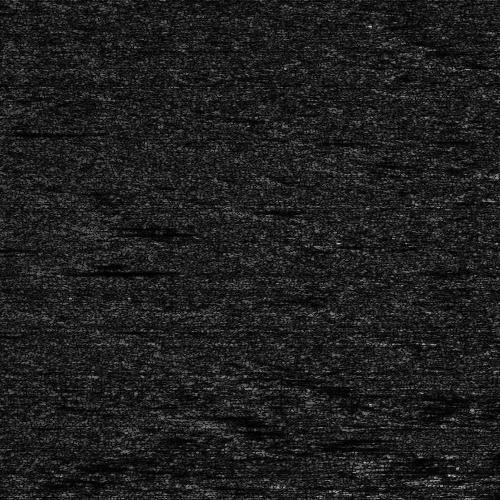object: (77, 216, 130, 235), (82, 223, 135, 240), (23, 266, 76, 275), (207, 207, 270, 212), (467, 168, 500, 175), (474, 193, 500, 200)
shadow: (104, 216, 181, 235), (109, 223, 186, 240), (49, 266, 149, 275), (0, 128, 71, 135), (239, 207, 323, 212), (0, 245, 33, 250)
